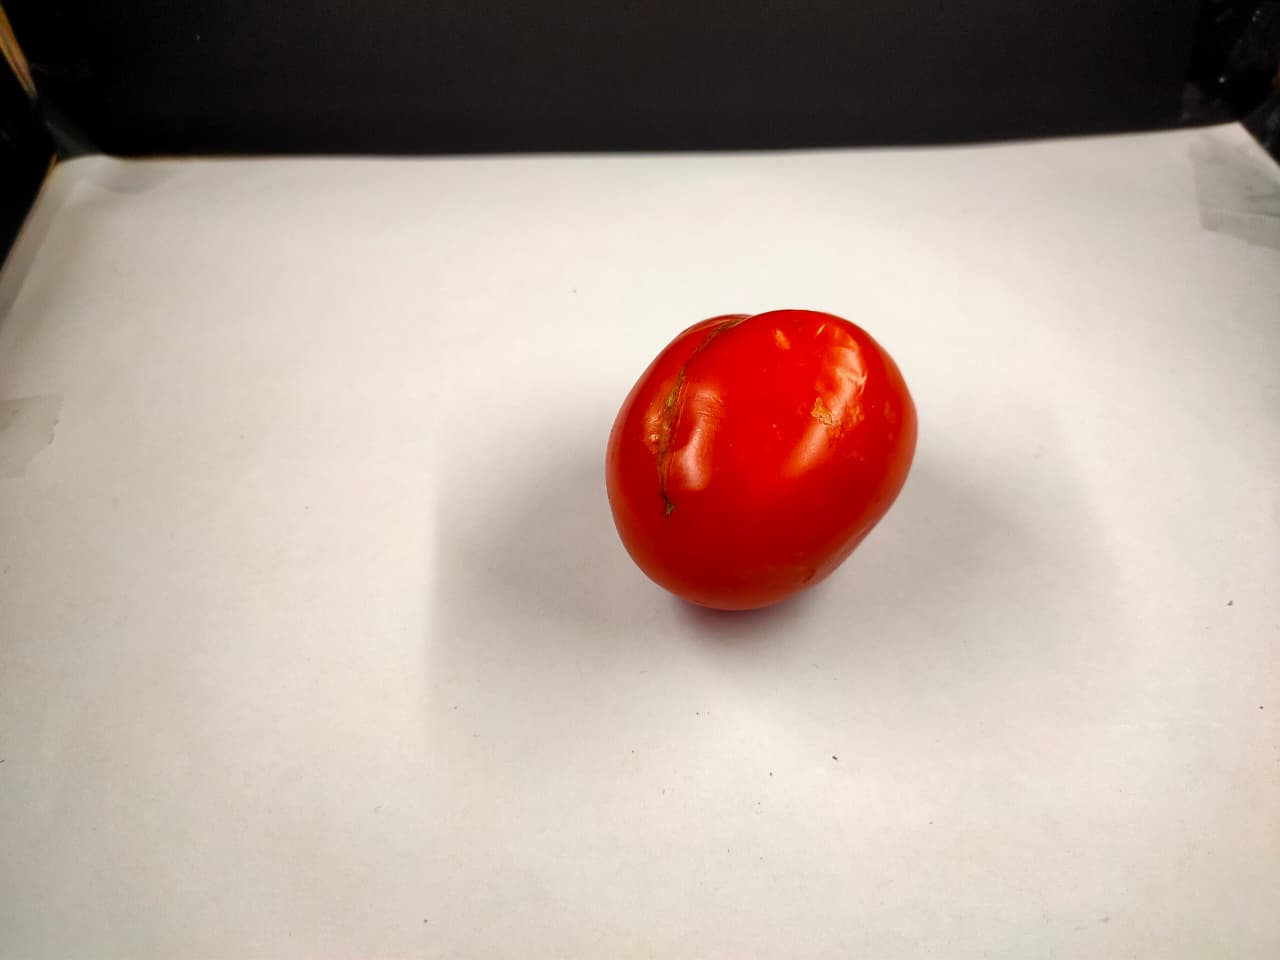damaged: (610, 289, 925, 638)
